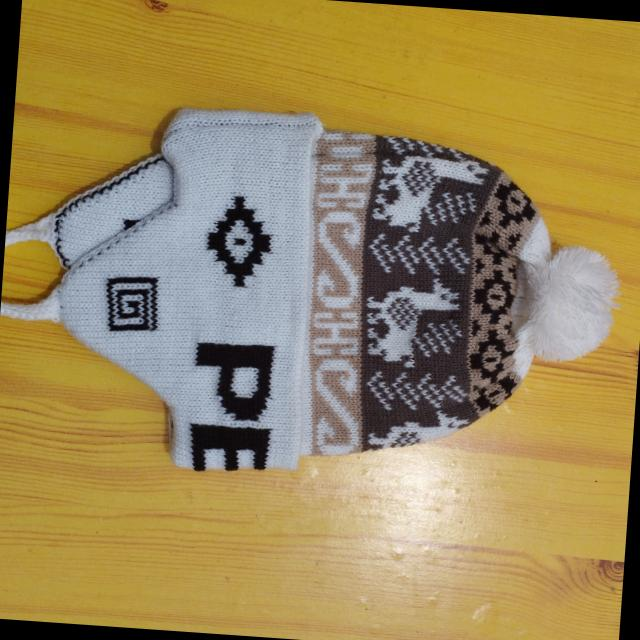Gorro: (0, 92, 631, 501)
